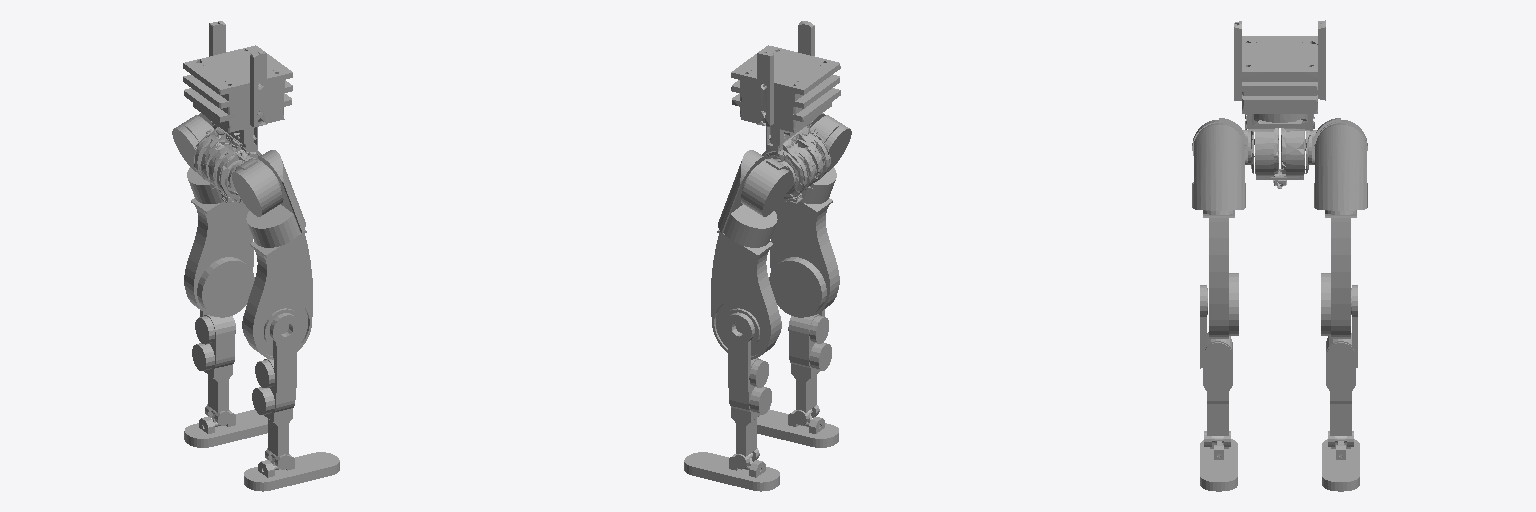
robot.urdf — R2:
<?xml version="1.0" encoding="utf-8"?>
<!-- 此模型用于仿真配重块版模型 -->
<robot name="R2">
  <mujoco>
    <compiler meshdir="meshes/" balanceinertia="true" discardvisual="false" />
  </mujoco>

  
  <!-- [CAUTION] uncomment when convert to mujoco -->
  <!-- <link name="world"></link>
  <joint name="floating_base_joint" type="floating">
    <parent link="world"/>
    <child link="base_link"/>
  </joint> -->

  <link name="base_link">
    <inertial>
      <origin xyz="0.00439618 5.853e-05 0.0065115" rpy="0 0 0" />
      <mass value="2.61" />
      <inertia ixx="0.00677361" ixy="2.89e-06" ixz="-0.00035304" iyy="0.00529171" iyz="-2.71e-06" izz="0.00502638" />
    </inertial>
    <visual>
      <origin xyz="0 0 0" rpy="0 0 0" />
      <geometry>
        <mesh filename="meshes/base_clump_weight_link.STL" />
      </geometry>
      <material name="">
        <color rgba="0.69804 0.69804 0.69804 1" />
      </material>
    </visual>
    <collision>
      <origin xyz="0 0 0" rpy="0 0 0" />
      <geometry>
        <mesh filename="meshes/base_clump_weight_link.STL" />
      </geometry>
    </collision>
  </link>
  <link name="clump_weight_link">
    <inertial>
      <origin xyz="-0.0006442 -7.046e-05 0.05178552" rpy="0 0 0" />
      <mass value="18.02929317" />
      <inertia ixx="0.05787748" ixy="-6.906e-05" ixz="-0.00072924" iyy="0.04960865" iyz="-1.088e-05" izz="0.06888179" />
    </inertial>
    <visual>
      <origin xyz="0 0 0" rpy="0 0 0" />
      <geometry>
        <mesh filename="meshes/clump_weight_link.STL" />
      </geometry>
      <material name="">
        <color rgba="0.69804 0.69804 0.69804 1" />
      </material>
    </visual>
    <collision>
      <origin xyz="0 0 0" rpy="0 0 0" />
      <geometry>
        <mesh filename="meshes/clump_weight_link.STL" />
      </geometry>
    </collision>
  </link>
  <joint name="clump_weight_joint" type="fixed">
    <origin xyz="0.0202500000012904 -0.00020855928995891 0.112124773455925" rpy="0 0 0" />
    <parent link="base_link" />
    <child link="clump_weight_link" />
  </joint>
  <link name="left_hip_pitch_link">
    <inertial>
      <origin xyz="-0.00028938 0.05520985 0.00013118" rpy="0 0 0" />
      <mass value="1.213" />
      <inertia ixx="0.00188482" ixy="1.784e-05" ixz="0.00022231" iyy="0.00118886" iyz="-1.011e-05" izz="0.00134031" />
    </inertial>
    <visual>
      <origin xyz="0 0 0" rpy="0 0 0" />
      <geometry>
        <mesh filename="meshes/left_hip_pitch_link.STL" />
      </geometry>
      <material name="">
        <color rgba="0.698039215686274 0.698039215686274 0.698039215686274 1" />
      </material>
    </visual>
    <collision>
      <origin xyz="0 0 0" rpy="0 0 0" />
      <geometry>
        <mesh filename="meshes/left_hip_pitch_link.STL" />
      </geometry>
    </collision>
  </link>
  <joint name="left_hip_pitch_joint" type="revolute">
    <origin xyz="0 0.0584500002241198 0" rpy="0 0 0" />
    <parent link="base_link" />
    <child link="left_hip_pitch_link" />
    <axis xyz="0 1 0" />
    <limit lower="-2.530727415" upper="2.879793266" effort="130" velocity="14.658" />
    <dynamics damping="0" friction="0" />
  </joint>
  <link name="left_hip_roll_link">
    <inertial>
      <origin xyz="-0.01609958 -1.412e-05 -0.07854252" rpy="0 0 0" />
      <mass value="1.41" />
      <inertia ixx="0.00343001" ixy="1.135e-05" ixz="-0.00085477" iyy="0.00366739" iyz="-3e-08" izz="0.00223593" />
    </inertial>
    <visual>
      <origin xyz="0 0 0" rpy="0 0 0" />
      <geometry>
        <mesh filename="meshes/left_hip_roll_link.STL" />
      </geometry>
      <material name="">
        <color rgba="0.698039215686274 0.698039215686274 0.698039215686274 1" />
      </material>
    </visual>
    <collision>
      <origin xyz="0 0 0" rpy="0 0 0" />
      <geometry>
        <mesh filename="meshes/left_hip_roll_link.STL" />
      </geometry>
    </collision>
  </link>
  <joint name="left_hip_roll_joint" type="revolute">
    <origin xyz="0.0249722852796248 0.0615000000000107 0.0090893131122475" rpy="0 -0.349065850398729 0" />
    <parent link="left_hip_pitch_link" />
    <child link="left_hip_roll_link" />
    <axis xyz="1 0 0" />
    <limit lower="-0.2618" upper="2.4435" effort="130" velocity="14.658" />
    <dynamics damping="0" friction="0" />
  </joint>
  <link name="left_hip_yaw_link">
    <inertial>
      <origin xyz="-0.04741913 -0.00321393 -0.1557307" rpy="0 0 0" />
      <mass value="2.338" />
      <inertia ixx="0.01056771" ixy="-0.00014798" ixz="-0.00336716" iyy="0.01472501" iyz="-0.00022926" izz="0.00514596" />
    </inertial>
    <visual>
      <origin xyz="0 0 0" rpy="0 0 0" />
      <geometry>
        <mesh filename="meshes/left_hip_yaw_link.STL" />
      </geometry>
      <material name="">
        <color rgba="0.698039215686274 0.698039215686274 0.698039215686274 1" />
      </material>
    </visual>
    <collision>
      <origin xyz="0 0 0" rpy="0 0 0" />
      <geometry>
        <mesh filename="meshes/left_hip_yaw_link.STL" />
      </geometry>
    </collision>
  </link>
  <joint name="left_hip_yaw_joint" type="revolute">
    <origin xyz="-0.0267499999999739 0 -0.1225" rpy="0 0 0" />
    <parent link="left_hip_roll_link" />
    <child link="left_hip_yaw_link" />
    <axis xyz="0 0 1" />
    <limit lower="-2.7576" upper="2.7576" effort="90" velocity="16.438" />
    <dynamics damping="0" friction="0" />
  </joint>
  <link name="left_knee_link">
    <inertial>
      <origin xyz="-0.00155103 -0.01699974 -0.13563883" rpy="0 0 0" />
      <mass value="1.77" />
      <inertia ixx="0.0087247" ixy="-1.23e-05" ixz="-7.771e-05" iyy="0.00863491" iyz="-0.00073353" izz="0.0010461" />
    </inertial>
    <visual>
      <origin xyz="0 0 0" rpy="0 0 0" />
      <geometry>
        <mesh filename="meshes/left_knee_link.STL" />
      </geometry>
      <material name="">
        <color rgba="0.698039215686274 0.698039215686274 0.698039215686274 1" />
      </material>
    </visual>
    <collision>
      <origin xyz="0 0 0" rpy="0 0 0" />
      <geometry>
        <mesh filename="meshes/left_knee_link.STL" />
      </geometry>
    </collision>
  </link>
  <joint name="left_knee_joint" type="revolute">
    <origin xyz="-0.066694 0.02125 -0.18724" rpy="0 0.34907 0" />
    <parent link="left_hip_yaw_link" />
    <child link="left_knee_link" />
    <axis xyz="0 1 0" />
    <limit lower="-0.401425728" upper="2.42600766" effort="150" velocity="14.658" />
    <dynamics damping="0" friction="0" />
  </joint>
  <link name="left_ankle_pitch_link">
    <inertial>
      <origin xyz="-0.00174962 0.0 -0.0115014" rpy="0 0 0" />
      <mass value="0.09698402" />
      <inertia ixx="1.377e-05" ixy="-0.0" ixz="-1.35e-06" iyy="2.495e-05" iyz="-0.0" izz="1.58e-05" />
    </inertial>
    <visual>
      <origin xyz="0 0 0" rpy="0 0 0" />
      <geometry>
        <mesh filename="meshes/left_ankle_pitch_link.STL" />
      </geometry>
      <material name="">
        <color rgba="0.752941176470588 0.752941176470588 0.752941176470588 1" />
      </material>
    </visual>
    <collision>
      <origin xyz="0 0 0" rpy="0 0 0" />
      <geometry>
        <mesh filename="meshes/left_ankle_pitch_link.STL" />
      </geometry>
    </collision>
  </link>
  <joint name="left_ankle_pitch_joint" type="revolute">
    <origin xyz="0.00014288 -0.02125 -0.298" rpy="0 -0.00047947 0" />
    <parent link="left_knee_link" />
    <child link="left_ankle_pitch_link" />
    <axis xyz="0 1 0" />
    <limit lower="-0.69813" upper="0.5236" effort="75" velocity="12.25" />
    <dynamics damping="0" friction="0" />
  </joint>
  <link name="left_ankle_roll_link">
    <inertial>
      <origin xyz="0.02167647 3.015e-05 -0.01889859" rpy="0 0 0" />
      <mass value="0.554" />
      <inertia ixx="0.00028267" ixy="-3.5e-07" ixz="6.632e-05" iyy="0.00154568" iyz="1.7e-07" izz="0.00171664" />
    </inertial>
    <visual>
      <origin xyz="0 0 0" rpy="0 0 0" />
      <geometry>
        <mesh filename="meshes/left_ankle_roll_link.STL" />
      </geometry>
      <material name="">
        <color rgba="0.698039215686274 0.698039215686274 0.698039215686274 1" />
      </material>
    </visual>
    <!-- <collision>
      <origin xyz="0 0 0" rpy="0 0 0" />
      <geometry>
        <mesh filename="meshes/left_ankle_roll_link.STL" />
      </geometry>
    </collision> -->

    <collision>
      <origin xyz="-0.05 0.025 -0.025" rpy="0 0 0"/>
      <geometry>
        <sphere radius="0.005"/>
      </geometry>
    </collision>

    <collision>
      <origin xyz="-0.05 -0.025 -0.025" rpy="0 0 0"/>
      <geometry>
        <sphere radius="0.005"/>
      </geometry>
    </collision>

    <collision>
      <origin xyz="0.12 0.03 -0.025" rpy="0 0 0"/>
      <geometry>
        <sphere radius="0.005"/>
      </geometry>
    </collision>

    <collision>
      <origin xyz="0.12 -0.03 -0.025" rpy="0 0 0"/>
      <geometry>
        <sphere radius="0.005"/>
      </geometry>
    </collision>

  </link>
  <joint name="left_ankle_roll_joint" type="revolute">
    <origin xyz="0 0 -0.02" rpy="0 0 0" />
    <parent link="left_ankle_pitch_link" />
    <child link="left_ankle_roll_link" />
    <axis xyz="1 0 0" />
    <limit lower="-0.2618" upper="0.2618" effort="75" velocity="12.25" />
    <dynamics damping="0" friction="0" />
  </joint>
  <link name="right_hip_pitch_link">
    <inertial>
      <origin xyz="-0.00029784 -0.05483617 0.0002104" rpy="0 0 0" />
      <mass value="1.213" />
      <inertia ixx="0.00188697" ixy="-1.722e-05" ixz="0.00022111" iyy="0.00119139" iyz="1.074e-05" izz="0.00133822" />
    </inertial>
    <visual>
      <origin xyz="0 0 0" rpy="0 0 0" />
      <geometry>
        <mesh filename="meshes/right_hip_pitch_link.STL" />
      </geometry>
      <material name="">
        <color rgba="0.698039215686274 0.698039215686274 0.698039215686274 1" />
      </material>
    </visual>
    <collision>
      <origin xyz="0 0 0" rpy="0 0 0" />
      <geometry>
        <mesh filename="meshes/right_hip_pitch_link.STL" />
      </geometry>
    </collision>
  </link>
  <joint name="right_hip_pitch_joint" type="revolute">
    <origin xyz="0 -0.05845 0" rpy="0 0 0" />
    <parent link="base_link" />
    <child link="right_hip_pitch_link" />
    <axis xyz="0 1 0" />
    <limit lower="-2.530727415" upper="2.879793266" effort="130" velocity="14.658" />
    <dynamics damping="0" friction="0" />
  </joint>
  <link name="right_hip_roll_link">
    <inertial>
      <origin xyz="-0.01609958 -1.412e-05 -0.07854252" rpy="0 0 0" />
      <mass value="1.41" />
      <inertia ixx="0.00343001" ixy="1.135e-05" ixz="-0.00085477" iyy="0.00366739" iyz="-3e-08" izz="0.00223593" />
    </inertial>
    <visual>
      <origin xyz="0 0 0" rpy="0 0 0" />
      <geometry>
        <mesh filename="meshes/right_hip_roll_link.STL" />
      </geometry>
      <material name="">
        <color rgba="0.698039215686274 0.698039215686274 0.698039215686274 1" />
      </material>
    </visual>
    <collision>
      <origin xyz="0 0 0" rpy="0 0 0" />
      <geometry>
        <mesh filename="meshes/right_hip_roll_link.STL" />
      </geometry>
    </collision>
  </link>
  <joint name="right_hip_roll_joint" type="revolute">
    <origin xyz="0.0249723782195777 -0.0610999992992917 0.00908905776189617" rpy="0 -0.34906585039873 0" />
    <parent link="right_hip_pitch_link" />
    <child link="right_hip_roll_link" />
    <axis xyz="1 0 0" />
    <limit lower="-2.4435" upper="0.2618" effort="130" velocity="14.658" />
    <dynamics damping="0" friction="0" />
  </joint>
  <link name="right_hip_yaw_link">
    <inertial>
      <origin xyz="-0.04743498 0.00321447 -0.15572445" rpy="0 0 0" />
      <mass value="2.338" />
      <inertia ixx="0.01056519" ixy="0.00014855" ixz="-0.00337014" iyy="0.01472568" iyz="0.00022888" izz="0.00514912" />
    </inertial>
    <visual>
      <origin xyz="0 0 0" rpy="0 0 0" />
      <geometry>
        <mesh filename="meshes/right_hip_yaw_link.STL" />
      </geometry>
      <material name="">
        <color rgba="0.698039215686274 0.698039215686274 0.698039215686274 1" />
      </material>
    </visual>
    <collision>
      <origin xyz="0 0 0" rpy="0 0 0" />
      <geometry>
        <mesh filename="meshes/right_hip_yaw_link.STL" />
      </geometry>
    </collision>
  </link>
  <joint name="right_hip_yaw_joint" type="revolute">
    <origin xyz="-0.02675 0 -0.1225" rpy="0 0 0" />
    <parent link="right_hip_roll_link" />
    <child link="right_hip_yaw_link" />
    <axis xyz="0 0 1" />
    <limit lower="-2.7576" upper="2.7576" effort="90" velocity="16.438" />
    <dynamics damping="0" friction="0" />
  </joint>
  <link name="right_knee_link">
    <inertial>
      <origin xyz="-0.00155151 0.01700124 -0.13563996" rpy="0 0 0" />
      <mass value="1.771" />
      <inertia ixx="0.00872903" ixy="1.207e-05" ixz="-7.776e-05" iyy="0.00863907" iyz="0.00073381" izz="0.00104678" />
    </inertial>
    <visual>
      <origin xyz="0 0 0" rpy="0 0 0" />
      <geometry>
        <mesh filename="meshes/right_knee_link.STL" />
      </geometry>
      <material name="">
        <color rgba="0.698039215686274 0.698039215686274 0.698039215686274 1" />
      </material>
    </visual>
    <collision>
      <origin xyz="0 0 0" rpy="0 0 0" />
      <geometry>
        <mesh filename="meshes/right_knee_link.STL" />
      </geometry>
    </collision>
  </link>
  <joint name="right_knee_joint" type="revolute">
    <origin xyz="-0.066694 -0.02125 -0.18724" rpy="0 0.34907 0" />
    <parent link="right_hip_yaw_link" />
    <child link="right_knee_link" />
    <axis xyz="0 1 0" />
    <limit lower="-0.401425728" upper="2.42600766" effort="150" velocity="14.658" />
    <dynamics damping="0" friction="0" />
  </joint>
  <link name="right_ankle_pitch_link">
    <inertial>
      <origin xyz="-0.00174962 0.0 -0.0115014" rpy="0 0 0" />
      <mass value="0.09698402" />
      <inertia ixx="1.377e-05" ixy="-0.0" ixz="-1.35e-06" iyy="2.495e-05" iyz="-0.0" izz="1.58e-05" />
    </inertial>
    <visual>
      <origin xyz="0 0 0" rpy="0 0 0" />
      <geometry>
        <mesh filename="meshes/right_ankle_pitch_link.STL" />
      </geometry>
      <material name="">
        <color rgba="0.752941176470588 0.752941176470588 0.752941176470588 1" />
      </material>
    </visual>
    <collision>
      <origin xyz="0 0 0" rpy="0 0 0" />
      <geometry>
        <mesh filename="meshes/right_ankle_pitch_link.STL" />
      </geometry>
    </collision>
  </link>
  <joint name="right_ankle_pitch_joint" type="revolute">
    <origin xyz="0.000142882489459831 0.0212500000000541 -0.297999965745961" rpy="0 -0.000479471459510909 0" />
    <parent link="right_knee_link" />
    <child link="right_ankle_pitch_link" />
    <axis xyz="0 1 0" />
    <limit lower="-0.69813" upper="0.5236" effort="75" velocity="12.25" />
    <dynamics damping="0" friction="0" />
  </joint>
  <link name="right_ankle_roll_link">
    <inertial>
      <origin xyz="0.02171574 3.14e-05 -0.01892029" rpy="0 0 0" />
      <mass value="0.554" />
      <inertia ixx="0.00028248" ixy="-3.1e-07" ixz="6.567e-05" iyy="0.0015451" iyz="1.5e-07" izz="0.00171656" />
    </inertial>
    <visual>
      <origin xyz="0 0 0" rpy="0 0 0" />
      <geometry>
        <mesh filename="meshes/right_ankle_roll_link.STL" />
      </geometry>
      <material name="">
        <color rgba="0.698039215686274 0.698039215686274 0.698039215686274 1" />
      </material>
    </visual>
    <!-- <collision>
      <origin xyz="0 0 0" rpy="0 0 0" />
      <geometry>
        <mesh filename="meshes/right_ankle_roll_link.STL" />
      </geometry>
    </collision> -->

    <collision>
      <origin xyz="-0.05 0.025 -0.025" rpy="0 0 0"/>
      <geometry>
        <sphere radius="0.005"/>
      </geometry>
    </collision>

    <collision>
      <origin xyz="-0.05 -0.025 -0.025" rpy="0 0 0"/>
      <geometry>
        <sphere radius="0.005"/>
      </geometry>
    </collision>

    <collision>
      <origin xyz="0.12 0.03 -0.025" rpy="0 0 0"/>
      <geometry>
        <sphere radius="0.005"/>
      </geometry>
    </collision>

    <collision>
      <origin xyz="0.12 -0.03 -0.025" rpy="0 0 0"/>
      <geometry>
        <sphere radius="0.005"/>
      </geometry>
    </collision>

  </link>
  <joint name="right_ankle_roll_joint" type="revolute">
    <origin xyz="0 0 -0.02" rpy="0 0 0" />
    <parent link="right_ankle_pitch_link" />
    <child link="right_ankle_roll_link" />
    <axis xyz="1 0 0" />
    <limit lower="-0.2618" upper="0.2618" effort="75" velocity="12.25" />
    <dynamics damping="0" friction="0" />
  </joint>

  <!-- imu -->
  <link name="imu_in_base"></link>
  <joint name="imu_in_base_joint" type="fixed">
    <origin xyz="0.0059965 -0.003397 -0.070175" rpy="0 0 0"/>
    <parent link="base_link"/>
    <child link="imu_in_base"/>
  </joint>

</robot>

--- Render facts (derived) ---
Views: 3 orthographic renders of the robot side by side, from view 1: azimuth 30°, elevation 25°; view 2: azimuth 150°, elevation 25°; view 3: azimuth 270°, elevation 25°.
Robot: R2 — 15 links, 14 joints (12 revolute, 2 fixed); root link base_link; default pose: all joints at 0.
Visible links, largest first — view 1: clump_weight_link, left_hip_yaw_link, right_hip_yaw_link, right_knee_link, left_knee_link, base_link, right_hip_roll_link, right_ankle_roll_link, right_hip_pitch_link, left_ankle_roll_link, left_hip_pitch_link, left_hip_roll_link; view 2: clump_weight_link, right_hip_yaw_link, left_hip_yaw_link, left_knee_link, right_knee_link, base_link, left_hip_roll_link, left_ankle_roll_link, left_hip_pitch_link, right_ankle_roll_link, right_hip_pitch_link, right_hip_roll_link; view 3: clump_weight_link, left_hip_roll_link, right_hip_roll_link, base_link, left_hip_yaw_link, right_hip_yaw_link, right_knee_link, left_knee_link, left_ankle_roll_link, right_ankle_roll_link.
Link boxes in pixels (x1,y1,x2,y2): clump_weight_link: (183,21,292,143); left_hip_yaw_link: (184,198,254,317); right_hip_yaw_link: (242,230,312,359); right_knee_link: (252,313,299,469); left_knee_link: (192,310,235,425); base_link: (193,122,261,203); right_hip_roll_link: (246,150,305,247); right_ankle_roll_link: (244,452,339,491); right_hip_pitch_link: (228,158,283,216); left_ankle_roll_link: (184,409,267,447); left_hip_pitch_link: (172,115,211,171); left_hip_roll_link: (187,113,223,203); clump_weight_link: (731,21,840,144); right_hip_yaw_link: (769,198,839,317); left_hip_yaw_link: (711,230,781,359); left_knee_link: (724,312,771,469); right_knee_link: (788,309,831,425); base_link: (762,122,830,203); left_hip_roll_link: (718,150,777,247); left_ankle_roll_link: (684,452,779,491); left_hip_pitch_link: (740,158,795,216); right_ankle_roll_link: (757,409,838,447); right_hip_pitch_link: (811,115,851,171); right_hip_roll_link: (800,113,836,203); clump_weight_link: (1234,20,1325,113); left_hip_roll_link: (1314,123,1367,210); right_hip_roll_link: (1192,123,1245,210); base_link: (1245,114,1314,188); left_hip_yaw_link: (1321,210,1356,338); right_hip_yaw_link: (1203,210,1238,338); right_knee_link: (1200,285,1232,446); left_knee_link: (1326,285,1357,446); left_ankle_roll_link: (1322,439,1359,491); right_ankle_roll_link: (1200,439,1237,491).
Size in the robot's own frame: 0.245 by 0.3449 by 0.9406 metres.
14 mesh visuals loaded from 14 distinct referenced files (14 binary STL).